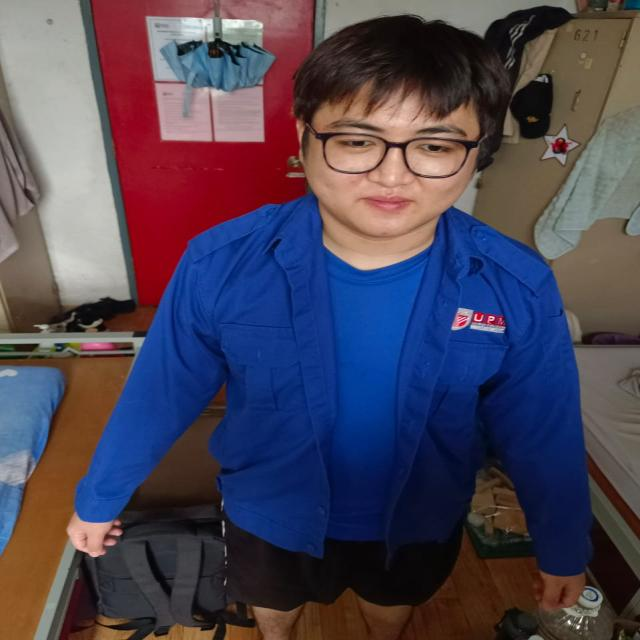person_with_labcoat: (69, 16, 590, 640)
